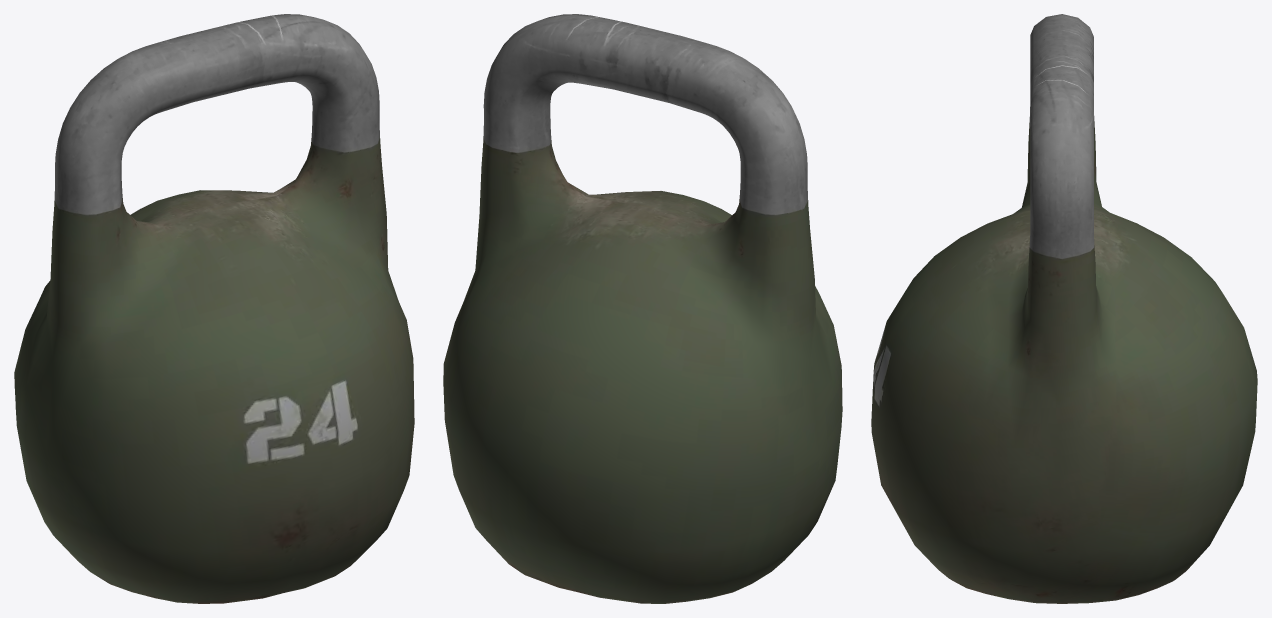
File: kettlebell24.glb
The picture shows the model from 3 angles, left to right: view 1: azimuth 30°, elevation 25°; view 2: azimuth 150°, elevation 25°; view 3: azimuth 270°, elevation 25°; orthographic projection. The views are drawn at different scales.
Visible parts, largest first — view 1: kettlebell24; view 2: kettlebell24; view 3: kettlebell24.
Boxes of the visible parts, x1,y1,x2,y2 form: kettlebell24: [14, 14, 414, 603]; kettlebell24: [443, 14, 842, 603]; kettlebell24: [871, 14, 1257, 603].
Size of the model in its own units: 0.1904 by 0.2706 by 0.1908.
Materials: 1 (1 with a texture image).
